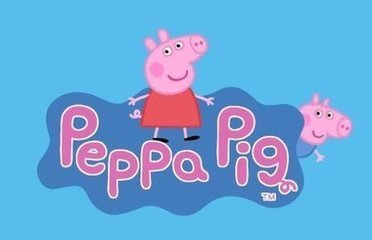Peppa: (129, 29, 215, 141)
